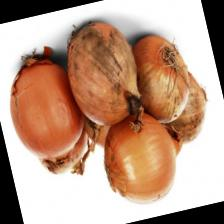onion: (55, 13, 151, 146), (0, 46, 95, 179), (92, 102, 196, 212), (122, 27, 198, 129)
